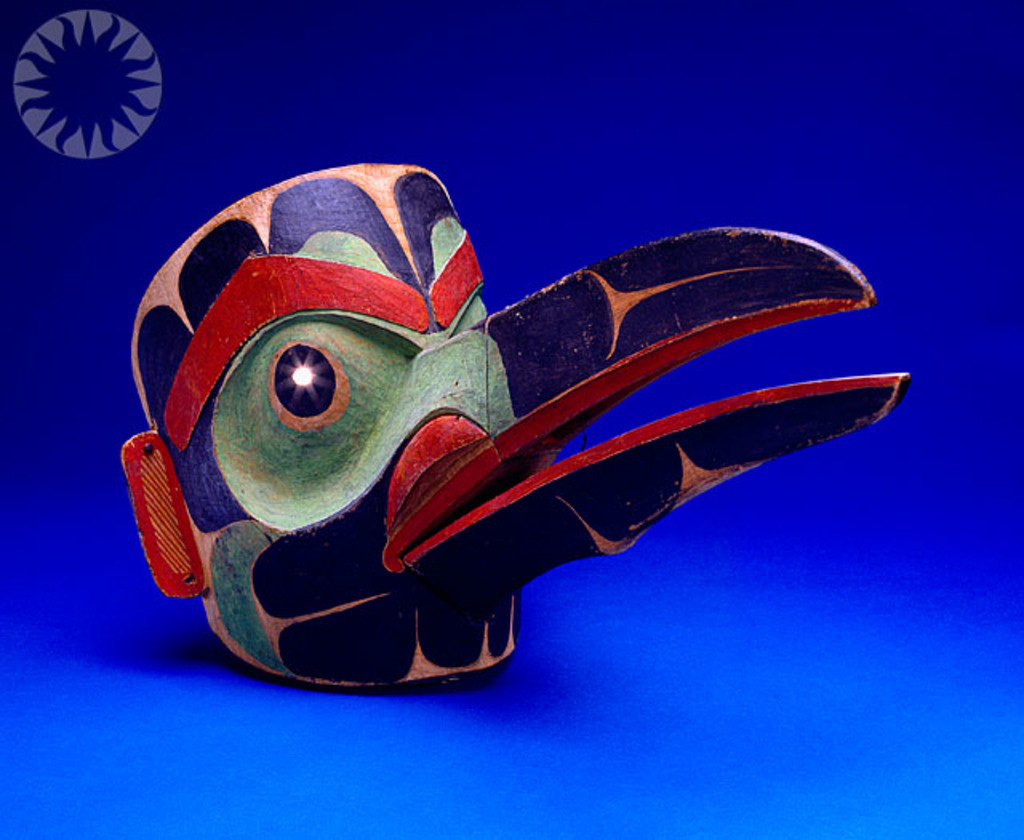Animal: (119, 163, 904, 681)
